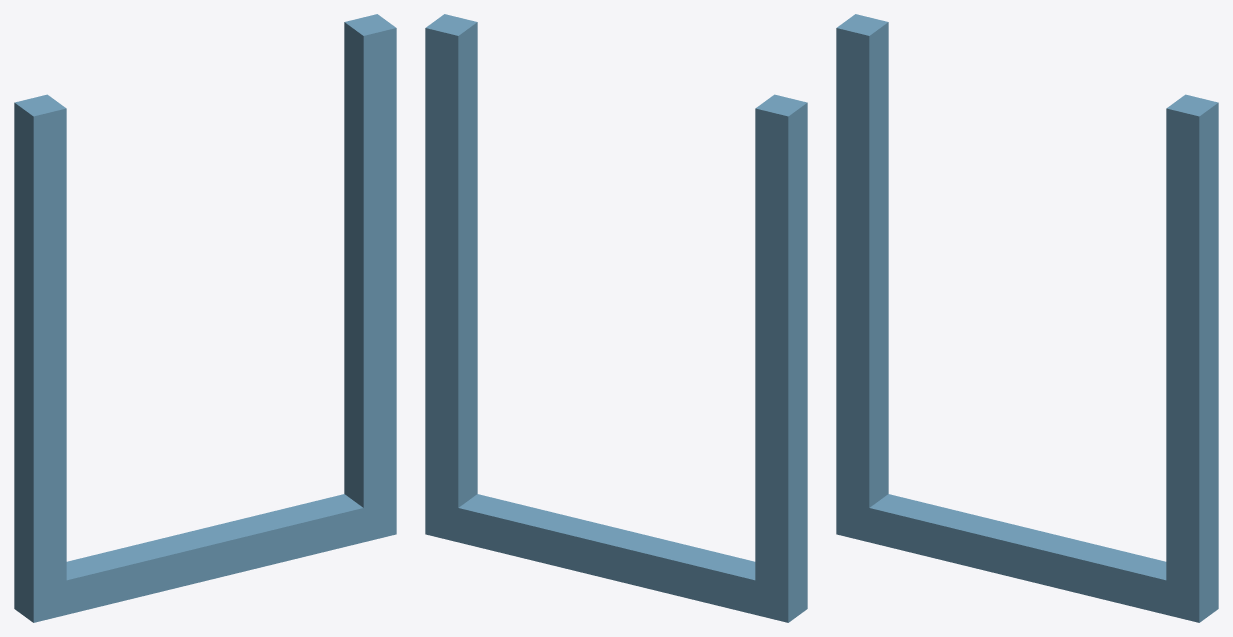
File: connector-qsfp-pull-loop.glb
3 renders of one model, left to right at view 1: azimuth 30°, elevation 25°; view 2: azimuth 150°, elevation 25°; view 3: azimuth 330°, elevation 25°, orthographic.
Parts seen in each view (by area): view 1: qsfp-pull-loop; view 2: qsfp-pull-loop; view 3: qsfp-pull-loop.
Boxes of the visible parts, x1,y1,x2,y2 form: qsfp-pull-loop: (14,14,396,622); qsfp-pull-loop: (425,14,807,622); qsfp-pull-loop: (836,14,1218,622).
Size of the model in its own units: 0.0132 by 0.0176 by 0.0012.
